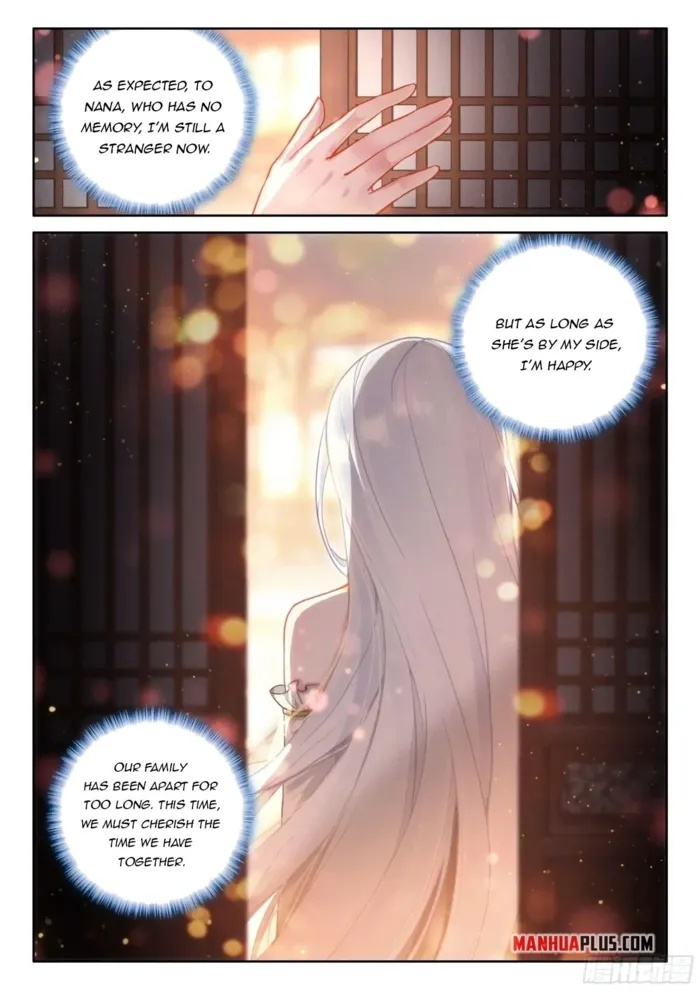bubbles: (445, 234, 667, 452), (36, 704, 259, 919), (45, 26, 263, 220)
